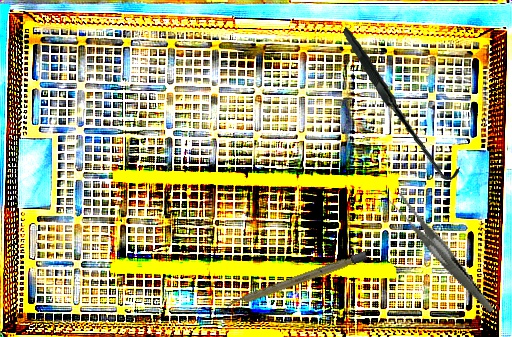Dressing Forceps: (387, 176, 495, 332)
Hook Surgical: (329, 25, 474, 182)
Scalpel Handle: (224, 250, 369, 311)
